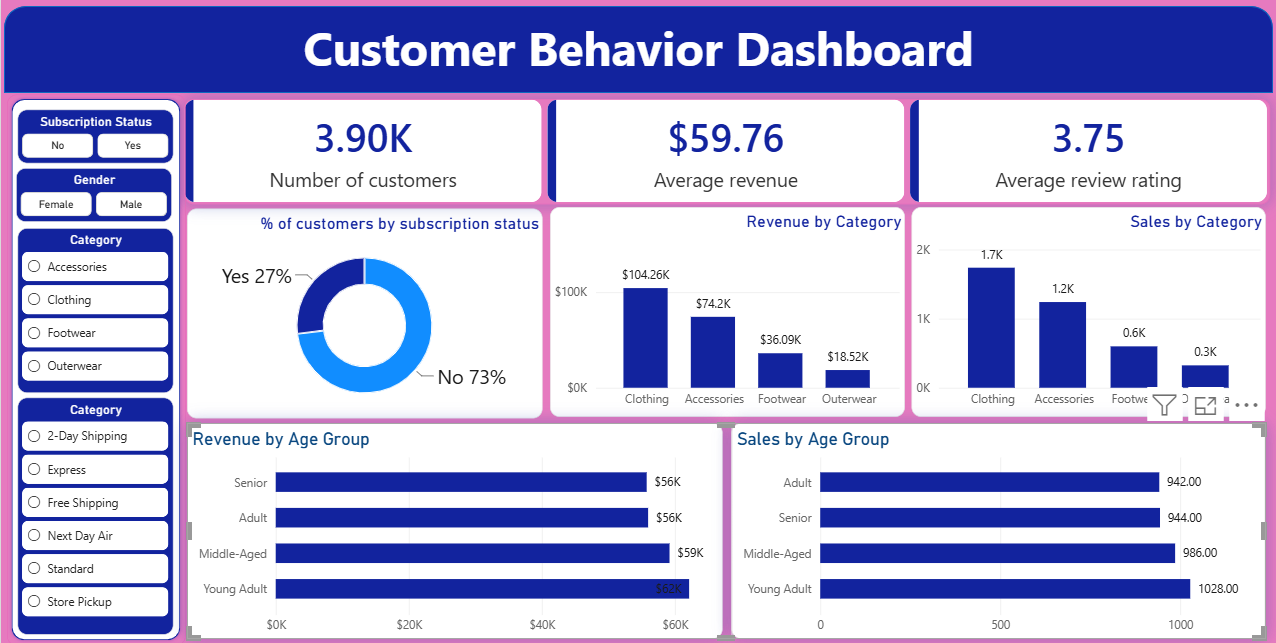

The dashboard page shown, as its layout file describes it:
{"tool":"powerbi","page":{"name":"Page 1","canvas":[1920,1080],"ordinal":0},"visuals":[{"type":"donutChart","title":"% of customers by subscription status","fields":{"Category":["mydatabase customers.subscription_status"],"Y":["Divide(mydatabase customers.Number of customers, ScopedEval(mydatabase customers.Number of customers, []))"]},"box":[191.5,213.8,364.6,215.4],"z":0},{"type":"cardVisual","fields":{"Data":["mydatabase customers.Number of customers","mydatabase customers.Average revenue","mydatabase customers.Average review rating"]},"box":[187,102,1113.8,107.7],"z":1000},{"type":"shape","box":[5.6,97,183,565],"z":2000},{"type":"shape","box":[3.1,6.2,1301.5,89.2],"z":3000},{"type":"clusteredColumnChart","title":"Revenue by Category","fields":{"Category":["mydatabase customers.category"],"Y":["Sum(mydatabase customers.purchase_amount)"]},"box":[562.7,212.3,364,215.4],"z":4000},{"type":"clusteredBarChart","title":"Revenue by Age Group","fields":{"Category":["mydatabase customers.age_group"],"Y":["Sum(mydatabase customers.purchase_amount)"]},"box":[191.2,433.8,549.5,221.5],"z":4000,"group":"g1"},{"type":"textbox","box":[7.6,15.2,1292.4,78.8],"z":5000},{"type":"advancedSlicerVisual","title":"Subscription Status","fields":{"Values":["mydatabase customers.subscription_status"]},"box":[16.9,112.3,160,55.4],"z":6000},{"type":"advancedSlicerVisual","title":"Gender","fields":{"Values":["mydatabase customers.gender"]},"box":[15.4,172.3,160,55.4],"z":7000},{"type":"clusteredBarChart","title":"Sales by Age Group","fields":{"Category":["mydatabase customers.age_group"],"Y":["mydatabase customers.Number of customers"]},"box":[749.4,433.8,548,221.5],"z":7000,"group":"g1"},{"type":"clusteredColumnChart","title":"Sales by Category","fields":{"Category":["mydatabase customers.category"],"Y":["mydatabase customers.Number of customers"]},"box":[934.6,212.3,363.1,215.4],"z":8000},{"type":"group","id":"g1","title":"Group 2","box":[191.2,433.8,1106.2,221.5],"z":9000},{"type":"listSlicer","title":"Category","fields":{"Values":["mydatabase customers.category"]},"box":[16.9,233.8,160,169.2],"z":10000},{"type":"listSlicer","title":"Category","fields":{"Values":["mydatabase customers.shipping_type"]},"box":[16.9,407.7,160,243.1],"z":11000}]}

Visuals, with their boxes on the page's 1920x1080 design canvas (x1, y1, x2, y2). These are canvas units, not pixel positions in the 1276x643 screenshot, which may show the page scaled, cropped or inside an application window:
"% of customers by subscription status" donutChart: 192 214 556 429
cardVisual - mydatabase customers.Number of customers x mydatabase customers.Average revenue: 187 102 1301 210
shape: 6 97 189 662
shape: 3 6 1305 95
"Revenue by Category" clusteredColumnChart: 563 212 927 428
"Revenue by Age Group" clusteredBarChart: 191 434 741 655
textbox: 8 15 1300 94
"Subscription Status" advancedSlicerVisual: 17 112 177 168
"Gender" advancedSlicerVisual: 15 172 175 228
"Sales by Age Group" clusteredBarChart: 749 434 1297 655
"Sales by Category" clusteredColumnChart: 935 212 1298 428
"Group 2" group: 191 434 1297 655
"Category" listSlicer: 17 234 177 403
"Category" listSlicer: 17 408 177 651
